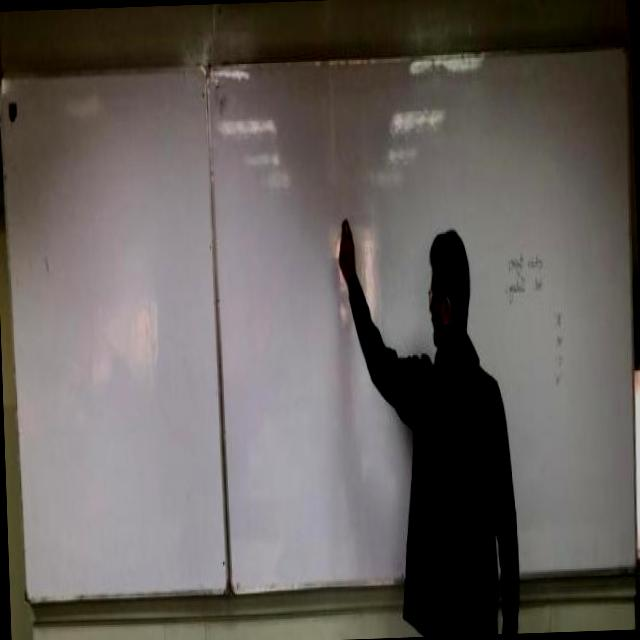Instructor: (393, 214, 512, 636)
White-board: (1, 48, 631, 603)
